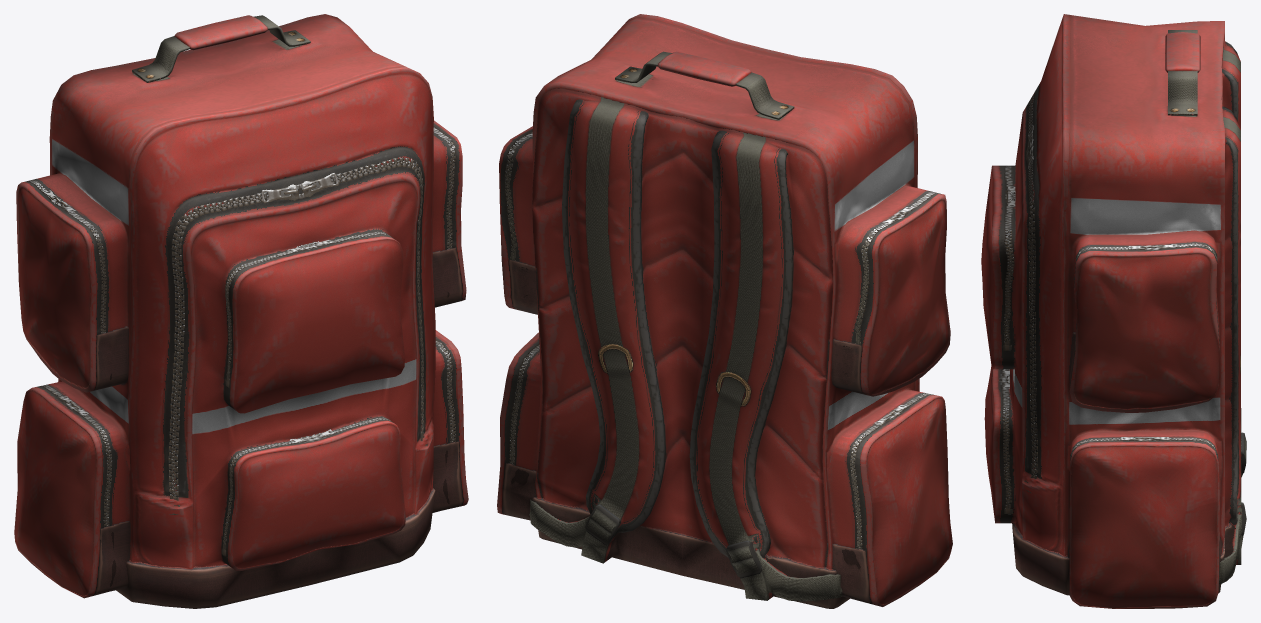
File: Backpack.dae
3 views of the same model, side by side, from view 1: azimuth 30°, elevation 25°; view 2: azimuth 150°, elevation 25°; view 3: azimuth 270°, elevation 25° (orthographic). The views are drawn at different scales.
Visible parts, largest first — view 1: Backpack; view 2: Backpack; view 3: Backpack.
Part boxes in pixels (x1,y1,x2,y2): Backpack: (14,14,468,608); Backpack: (497,14,952,608); Backpack: (981,14,1246,608).
Bounding box in the file's own units: 44.16 × 26.36 × 52.24.
